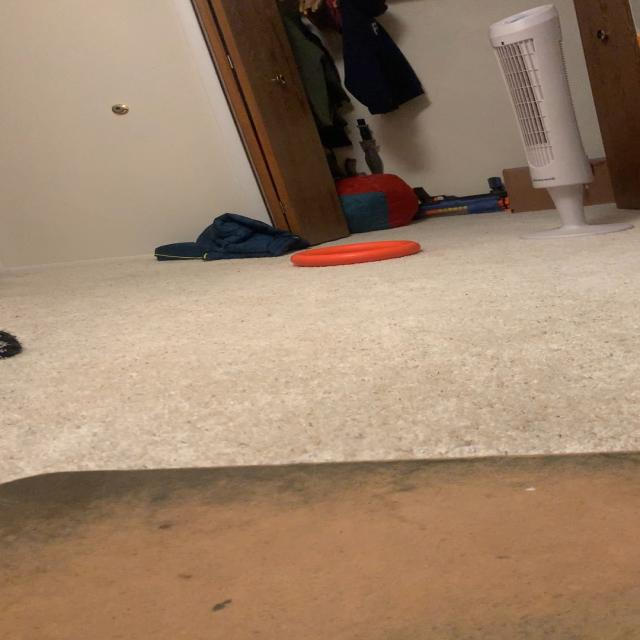notes: (290, 241, 420, 267)
